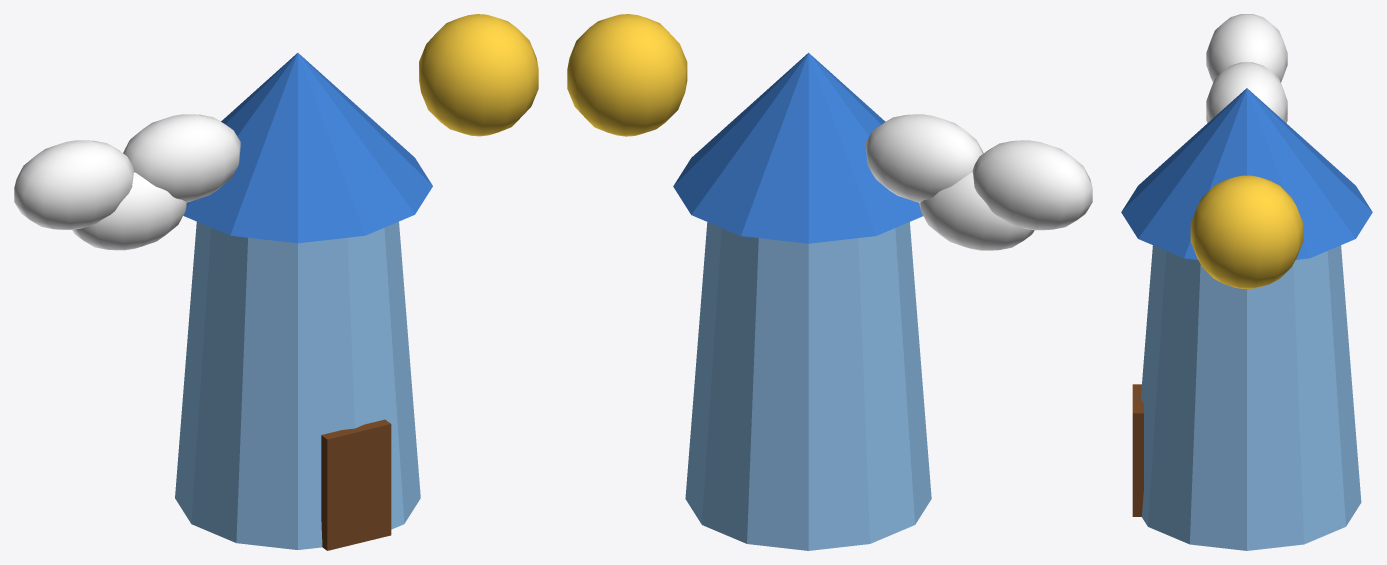
Rendered from b_weather.glb.
3 views of the same model, side by side, from view 1: azimuth 30°, elevation 25°; view 2: azimuth 150°, elevation 25°; view 3: azimuth 270°, elevation 25° (orthographic). The views are drawn at different scales.
Parts seen in each view (by area): view 1: Tower, Top, Sun, Cloud1, Door, Cloud2, Cloud0; view 2: Tower, Top, Sun, Cloud1, Cloud2, Cloud0; view 3: Tower, Top, Sun, Cloud1, Cloud2, Door.
Boxes of the visible parts, <box> form: Tower: <box>175,221,420,549</box>; Top: <box>183,53,432,243</box>; Sun: <box>419,14,538,136</box>; Cloud1: <box>14,140,133,229</box>; Door: <box>321,419,391,550</box>; Cloud2: <box>123,114,240,202</box>; Cloud0: <box>72,172,187,250</box>; Tower: <box>685,222,931,550</box>; Top: <box>673,52,922,243</box>; Sun: <box>567,14,687,136</box>; Cloud1: <box>972,140,1092,230</box>; Cloud2: <box>865,114,983,202</box>; Cloud0: <box>919,172,1034,250</box>; Tower: <box>1140,245,1361,550</box>; Top: <box>1121,88,1372,259</box>; Sun: <box>1190,175,1303,288</box>; Cloud1: <box>1206,14,1287,82</box>; Cloud2: <box>1206,62,1287,121</box>; Door: <box>1132,384,1143,516</box>.
Size of the model in its own units: 4.8 by 4 by 2.2.
